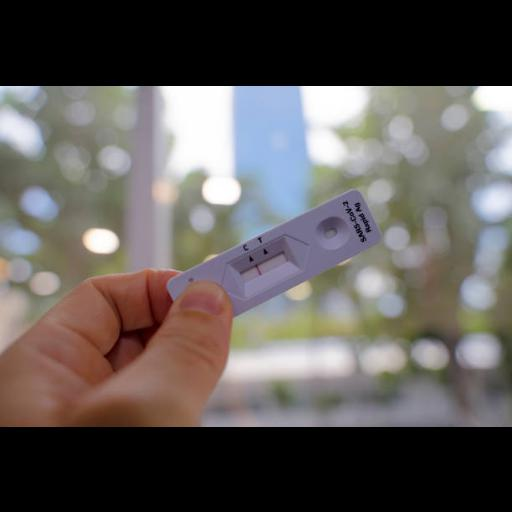Neg: (167, 185, 384, 335)
